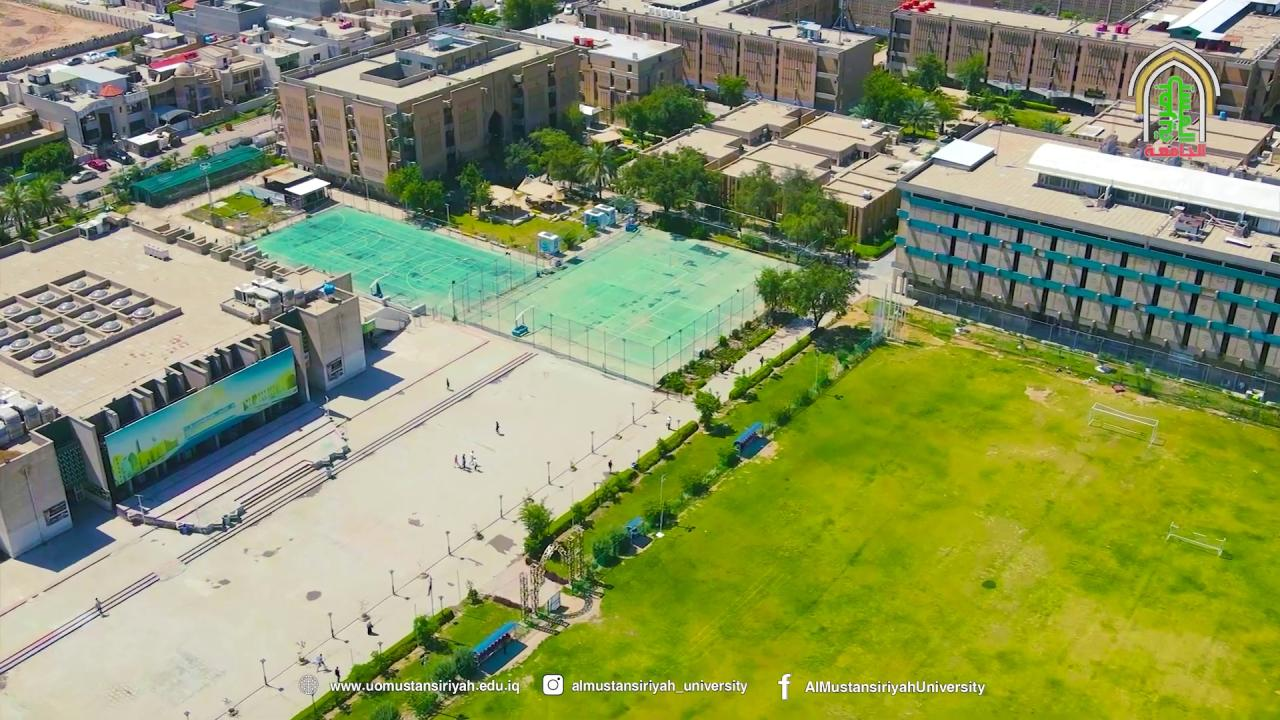car: (70, 170, 99, 184), (85, 158, 111, 172)
person: (334, 666, 340, 682), (607, 460, 613, 474), (461, 452, 466, 468), (666, 415, 671, 430), (454, 454, 459, 468), (494, 420, 499, 432)
tree: (850, 61, 959, 142), (614, 144, 714, 224), (612, 81, 714, 140), (777, 174, 848, 256), (781, 258, 860, 330), (576, 139, 628, 200), (733, 162, 780, 221), (858, 65, 906, 122), (527, 125, 573, 184), (964, 86, 1025, 126), (24, 174, 70, 226), (516, 496, 553, 560), (754, 265, 794, 323), (454, 160, 492, 216), (0, 179, 37, 236), (548, 141, 586, 194), (897, 97, 940, 141), (382, 161, 423, 207), (555, 525, 585, 587), (21, 140, 72, 176), (500, 0, 558, 30), (399, 178, 444, 216), (954, 49, 988, 95), (501, 138, 536, 181), (929, 87, 959, 134), (912, 50, 944, 90), (692, 387, 721, 430), (714, 72, 748, 107), (412, 614, 438, 648), (833, 232, 859, 265), (728, 368, 753, 400), (473, 179, 494, 215), (569, 501, 586, 527), (654, 436, 666, 459), (192, 144, 209, 160)
